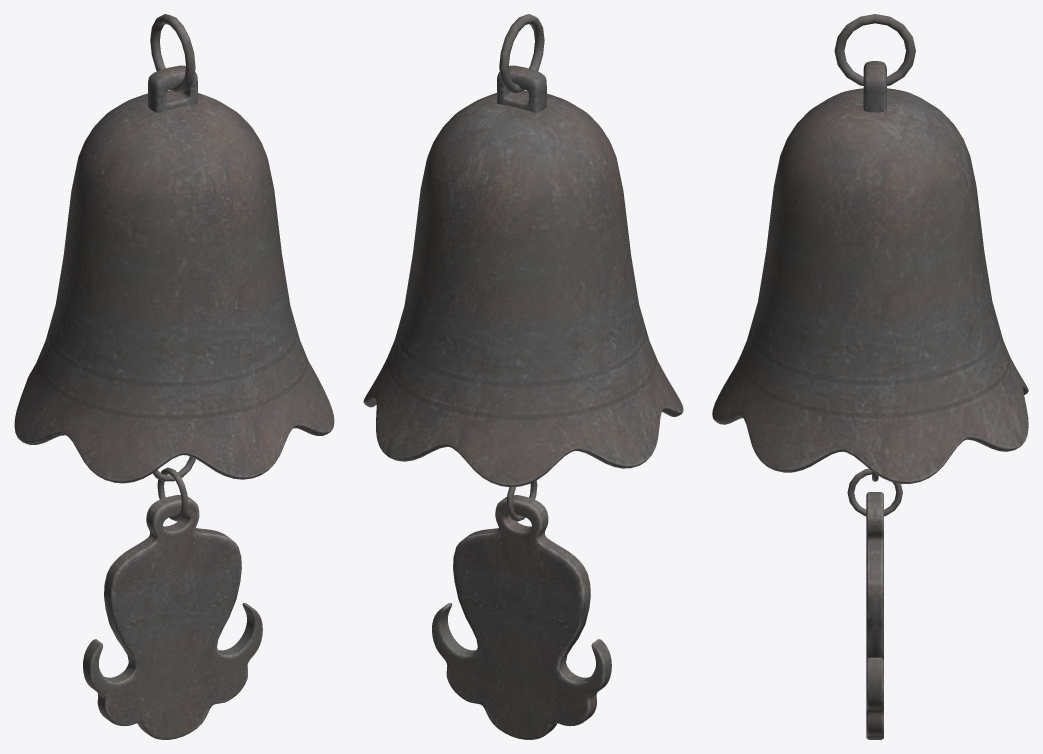
Rendered from FengLing.glb.
The picture shows the model from 3 angles, left to right: view 1: azimuth 30°, elevation 25°; view 2: azimuth 150°, elevation 25°; view 3: azimuth 270°, elevation 25°; orthographic projection.
Parts seen in each view (by area): view 1: FengLing; view 2: FengLing; view 3: FengLing.
Boxes of the visible parts, x1=… form: FengLing: x1=14, y1=14, x2=334, y2=739; FengLing: x1=363, y1=14, x2=683, y2=739; FengLing: x1=712, y1=14, x2=1028, y2=739.
Bounding box in the file's own units: 0.6718 × 1.67 × 0.6624.
Materials: 1 (1 with a texture image).
